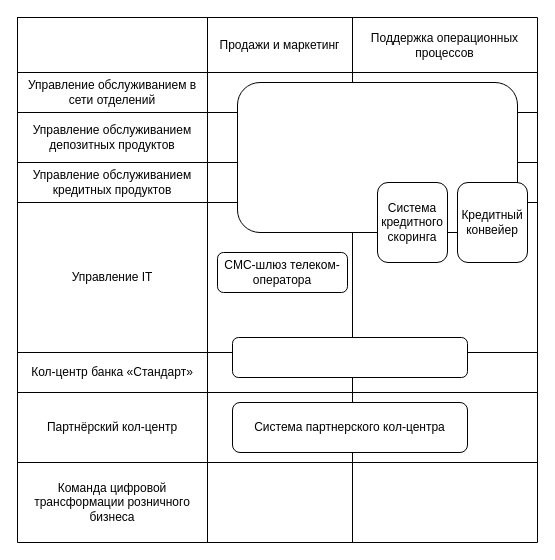
This 555x560 diagram has some shape labels left out. Here are the shapes that lost their labels. From the top down, the box of each, then its label:
(236, 82, 518, 232): АБС
(232, 336, 468, 378): Система кол-центра
